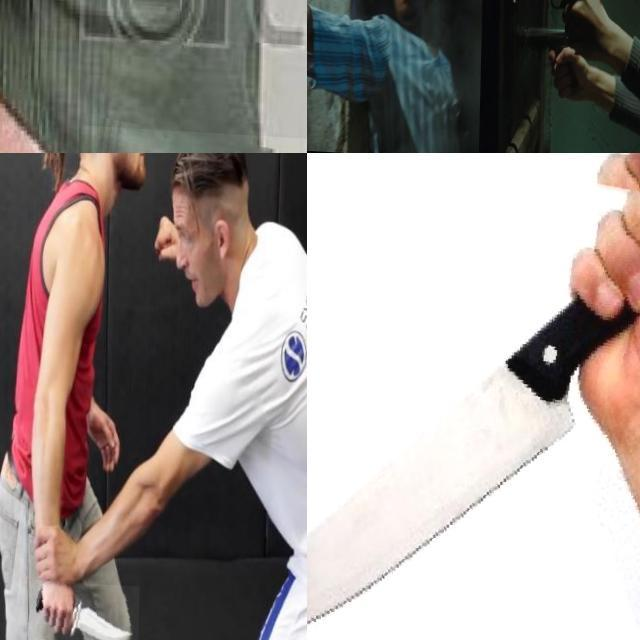-: (307, 153, 640, 640), (30, 577, 142, 640)
gun-knife-thesis - v11 Yolov5 augmented: (509, 0, 603, 58), (518, 14, 580, 90), (307, 0, 343, 46)
